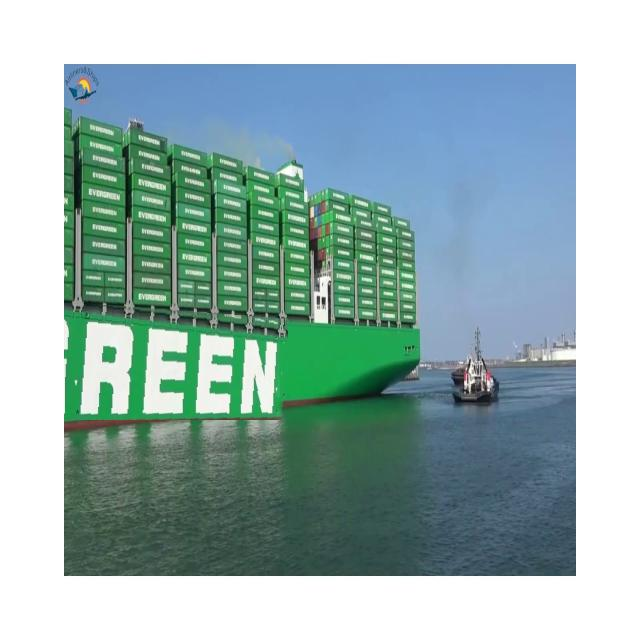OCR: (65, 302, 289, 420)
